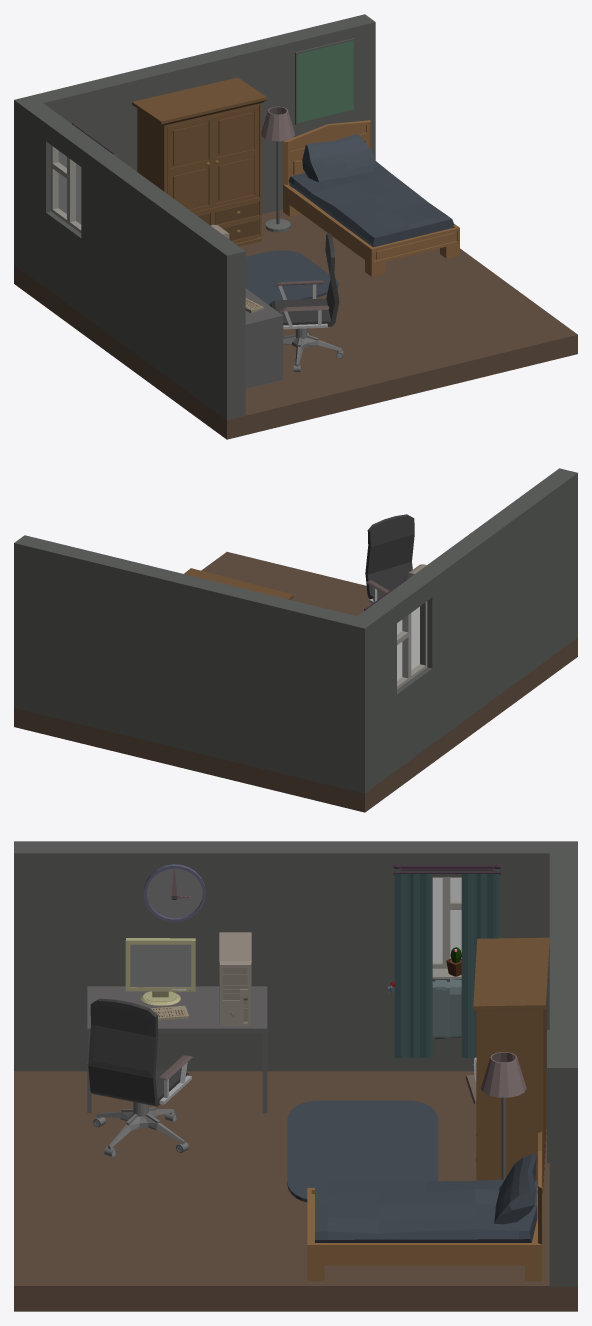
File: room_2.fbx
The picture shows the model from 3 angles, top to bottom: view 1: azimuth 30°, elevation 25°; view 2: azimuth 150°, elevation 25°; view 3: azimuth 270°, elevation 25°; orthographic projection. The views are drawn at different scales.
Parts seen in each view (by area): view 1: stena, pol, srena, skaf, matras, krovati, plakat, kreslo, kover, stol, paduska, lampa (+1 smaller); view 2: srena, stena, pol, kreslo, skaf, glass; view 3: pol, stena, skaf, srena, kover, matras, stori, kreslo, krovati, stol, monic 1, pc 1 (+6 smaller).
Part boxes in pixels (x1=…): stena: x1=24, y1=103, x2=245, y2=439; pol: x1=239, y1=209, x2=577, y2=434; srena: x1=14, y1=14, x2=375, y2=291; skaf: x1=132, y1=77, x2=266, y2=246; matras: x1=288, y1=160, x2=453, y2=247; krovati: x1=283, y1=120, x2=459, y2=276; plakat: x1=295, y1=38, x2=354, y2=124; kreslo: x1=269, y1=233, x2=343, y2=372; kover: x1=245, y1=250, x2=338, y2=305; stol: x1=245, y1=288, x2=283, y2=388; paduska: x1=302, y1=134, x2=374, y2=182; lampa: x1=261, y1=106, x2=294, y2=232; srena: x1=14, y1=535, x2=375, y2=812; stena: x1=357, y1=468, x2=577, y2=804; pol: x1=201, y1=552, x2=371, y2=615; kreslo: x1=365, y1=514, x2=414, y2=603; skaf: x1=184, y1=568, x2=293, y2=599; glass: x1=397, y1=606, x2=419, y2=680; pol: x1=14, y1=1071, x2=549, y2=1311; stena: x1=14, y1=841, x2=549, y2=1071; skaf: x1=473, y1=937, x2=549, y2=1193; srena: x1=549, y1=841, x2=577, y2=1311; kover: x1=287, y1=1100, x2=438, y2=1202; matras: x1=315, y1=1179, x2=537, y2=1242; stori: x1=394, y1=874, x2=499, y2=1057; kreslo: x1=87, y1=998, x2=193, y2=1157; krovati: x1=307, y1=1131, x2=541, y2=1281; stol: x1=87, y1=986, x2=267, y2=1113; monic 1: x1=125, y1=938, x2=195, y2=1005; pc 1: x1=219, y1=932, x2=251, y2=1026.
Bounding box in the file's own units: 1020 × 511 × 1072.
